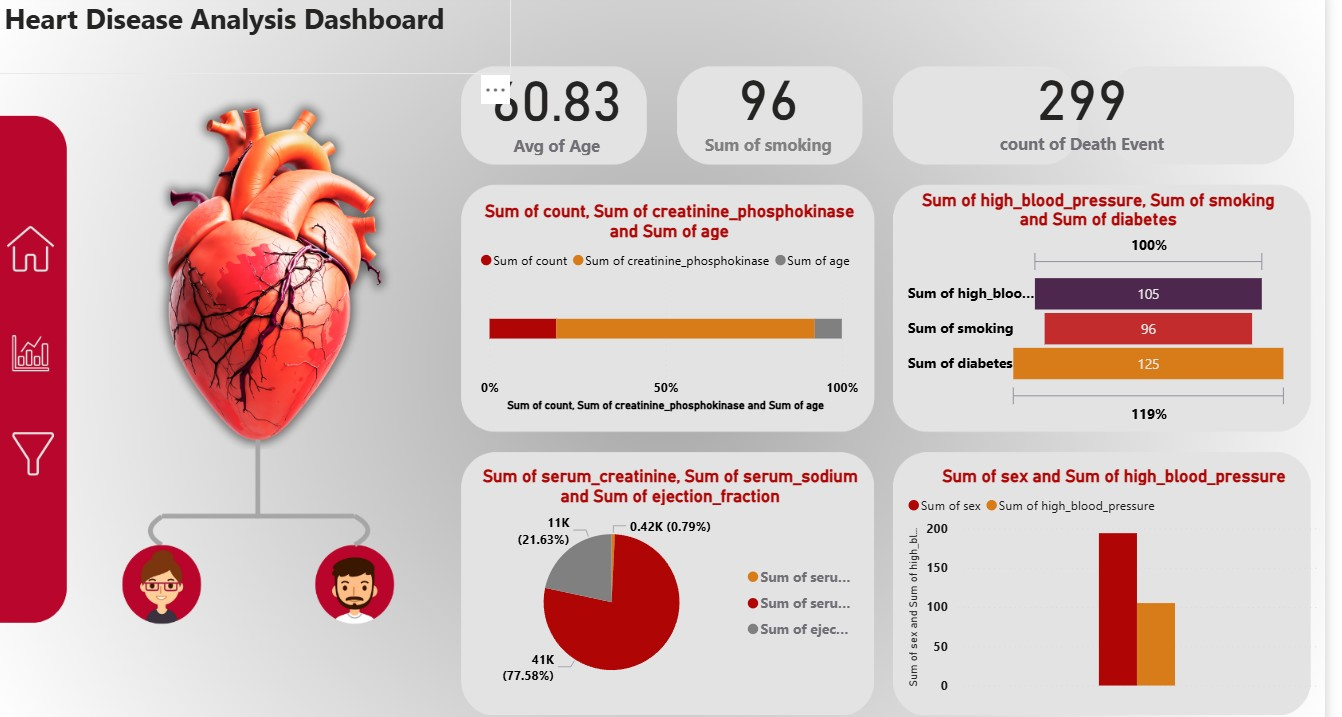

This screenshot's page, from the dashboard's own definition file:
{"tool":"powerbi","page":{"name":"Page 1","canvas":[1280,720],"ordinal":0},"visuals":[{"type":"hundredPercentStackedBarChart","fields":{"Y":["Sum(heart_Disease_clinical_records_.count)","Sum(heart_Disease_clinical_records_.creatinine_phosphokinase)","Sum(heart_Disease_clinical_records_.age)"]},"box":[460,198.8,375,208.8],"z":0},{"type":"card","fields":{"Values":["heart_Disease_clinical_records_.Avg of Age"]},"box":[388.8,55,300,105],"z":1000},{"type":"card","fields":{"Values":["Sum(heart_Disease_clinical_records_.smoking)"]},"box":[592.4,49.5,300.4,114.6],"z":2000},{"type":"card","fields":{"Values":["select","heart_Disease_clinical_records_.count of Death Event"]},"box":[892.8,55.5,305.2,101.3],"z":3000},{"type":"funnel","fields":{"Y":["Sum(heart_Disease_clinical_records_.high_blood_pressure)","Sum(heart_Disease_clinical_records_.smoking)","Sum(heart_Disease_clinical_records_.diabetes)"]},"box":[872.3,188.2,377.6,231.6],"z":4000},{"type":"pieChart","fields":{"Y":["Sum(heart_Disease_clinical_records_.serum_creatinine)","Sum(heart_Disease_clinical_records_.serum_sodium)","Sum(heart_Disease_clinical_records_.ejection_fraction)"]},"box":[456.2,455,383.8,226.2],"z":5000},{"type":"textbox","box":[0,0,495,77.5],"z":6000},{"type":"clusteredColumnChart","fields":{"Y":["Sum(heart_Disease_clinical_records_.sex)","Sum(heart_Disease_clinical_records_.high_blood_pressure)"]},"box":[872.3,454.8,407.8,226.8],"z":7000}]}

Visuals, with their boxes on the page's 1280x720 design canvas (x1, y1, x2, y2). These are canvas units, not pixel positions in the 1342x717 screenshot, which may show the page scaled, cropped or inside an application window:
hundredPercentStackedBarChart - Sum(heart_Disease_clinical_records_.count) x Sum(heart_Disease_clinical_records_.creatinine_phosphokinase): box(460, 199, 835, 408)
card - heart_Disease_clinical_records_.Avg of Age: box(389, 55, 689, 160)
card - Sum(heart_Disease_clinical_records_.smoking): box(592, 50, 893, 164)
card - select x heart_Disease_clinical_records_.count of Death Event: box(893, 56, 1198, 157)
funnel - Sum(heart_Disease_clinical_records_.high_blood_pressure) x Sum(heart_Disease_clinical_records_.smoking): box(872, 188, 1250, 420)
pieChart - Sum(heart_Disease_clinical_records_.serum_creatinine) x Sum(heart_Disease_clinical_records_.serum_sodium): box(456, 455, 840, 681)
textbox: box(0, 0, 495, 78)
clusteredColumnChart - Sum(heart_Disease_clinical_records_.sex) x Sum(heart_Disease_clinical_records_.high_blood_pressure): box(872, 455, 1280, 682)
